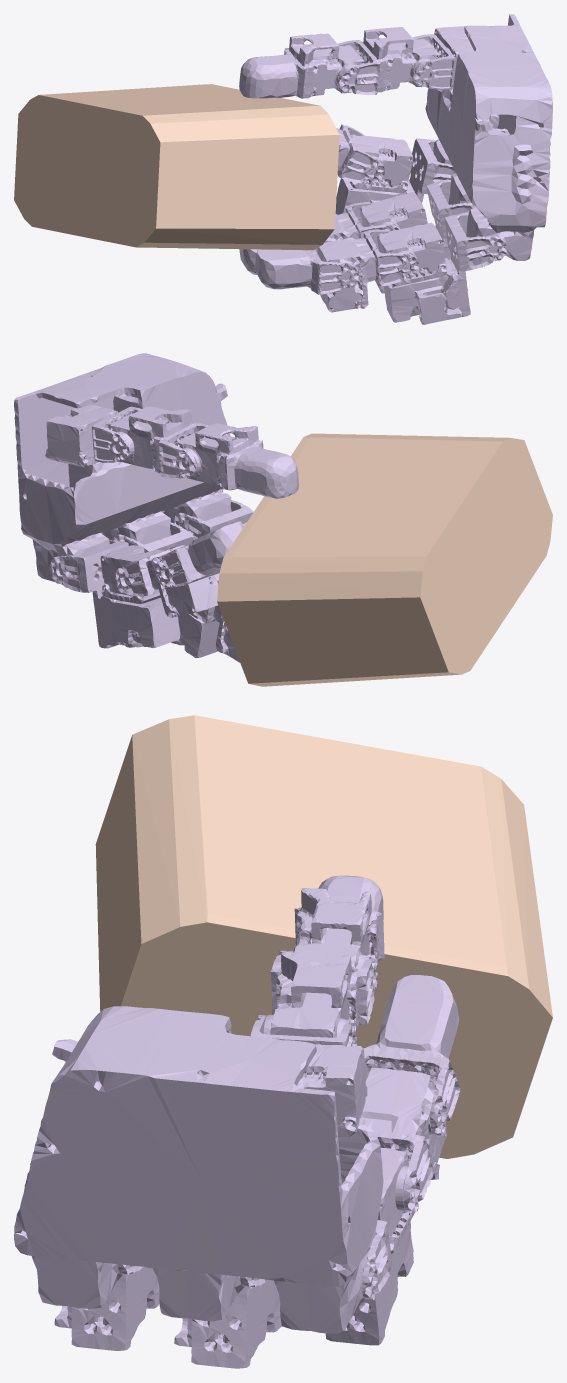
3 views of the same model, one above another, from view 1: azimuth 30°, elevation 25°; view 2: azimuth 150°, elevation 25°; view 3: azimuth 270°, elevation 25° (orthographic). The views are drawn at different scales.
Parts seen in each view (by area): view 1: LEAP_hand, world; view 2: world, LEAP_hand; view 3: LEAP_hand, world.
Part boxes in pixels (x1,y1,x2,y2): LEAP_hand: (239, 14, 552, 324); world: (14, 84, 339, 250); world: (217, 433, 552, 686); LEAP_hand: (14, 353, 298, 662); LEAP_hand: (14, 875, 460, 1368); world: (95, 715, 552, 1158).
Size of the model in its own units: 0.3053 by 0.1589 by 0.1917.
